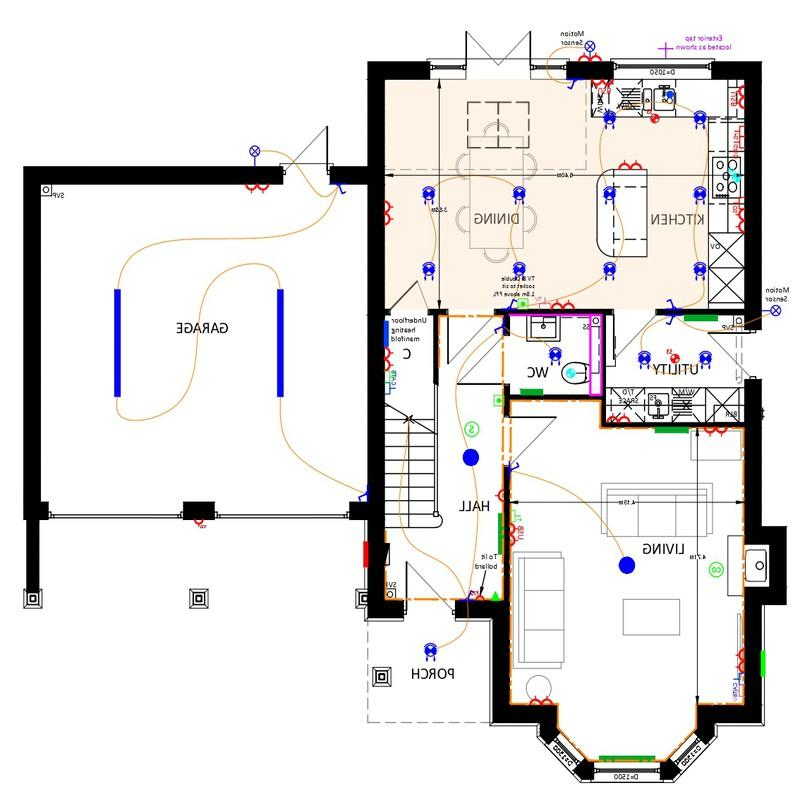BT Entry Point: (485, 587, 507, 605)
Cat 6 Data Socket: (373, 382, 397, 399), (732, 672, 747, 686)
Ceiling Mounted Continuous Extract Fan With Boost Mode Activated By Light Switch: (565, 367, 576, 380)
Ceiling Mounted Continuous Extract Fan With Local Boost Switch: (666, 346, 682, 370), (642, 108, 662, 126)
Co-Ax TV Socket: (536, 292, 551, 315), (729, 684, 746, 699)
Consumer Unit: (379, 536, 395, 571)
Double Socket: (377, 345, 408, 372), (699, 422, 737, 439), (383, 195, 399, 232), (614, 154, 648, 171), (605, 412, 634, 430), (240, 179, 274, 194), (730, 648, 749, 674), (568, 51, 607, 63), (553, 295, 577, 313), (731, 208, 746, 234), (526, 694, 559, 705)
Electric Meter Box: (360, 536, 370, 571)
External Wall Light: (245, 143, 268, 166), (761, 303, 786, 322), (580, 37, 599, 55)
Gas Meter Box: (757, 640, 768, 684)
Grid Switch: (730, 135, 746, 150)
Hob Switch: (732, 122, 745, 138)
Light Switch: (660, 311, 682, 328), (564, 77, 582, 96), (332, 183, 352, 200), (507, 456, 522, 478), (501, 294, 519, 312), (457, 586, 475, 601), (659, 298, 683, 309), (354, 487, 369, 503), (492, 320, 506, 336)
Low Energy Downlighter: (416, 637, 448, 663), (508, 256, 534, 286), (508, 181, 532, 210), (541, 341, 563, 369), (633, 346, 656, 372), (422, 179, 440, 212), (695, 347, 717, 372), (599, 107, 620, 132), (418, 260, 439, 284), (599, 182, 617, 210), (689, 257, 708, 283), (601, 260, 621, 283), (692, 108, 710, 133), (690, 182, 707, 206)
Low Energy Pendant Light: (614, 549, 639, 578), (455, 445, 484, 469)
Mains Wired Smoke Detector: (463, 416, 482, 441)
Outside Tap: (653, 41, 677, 58)
Oven Switch: (732, 195, 747, 209)
Programmable Room Thermostat: (491, 391, 509, 409), (516, 293, 531, 311)
Radiator: (653, 421, 693, 441), (590, 749, 665, 758), (492, 511, 505, 560), (680, 314, 728, 326), (510, 384, 549, 395)
Recirculating Extractor Fan: (726, 166, 743, 185)
Single Socket: (487, 482, 509, 507), (474, 583, 488, 603)
Telephone Socket: (374, 370, 403, 384), (507, 504, 528, 523)
Twin LED Strip Light: (269, 283, 292, 408), (108, 283, 127, 403), (189, 518, 212, 529)
USB Double Socket: (506, 522, 527, 553), (726, 79, 746, 110), (588, 78, 617, 92)
Underfloor Heating Manifold: (379, 314, 397, 347)
Water Entry Position: (666, 87, 677, 100)
